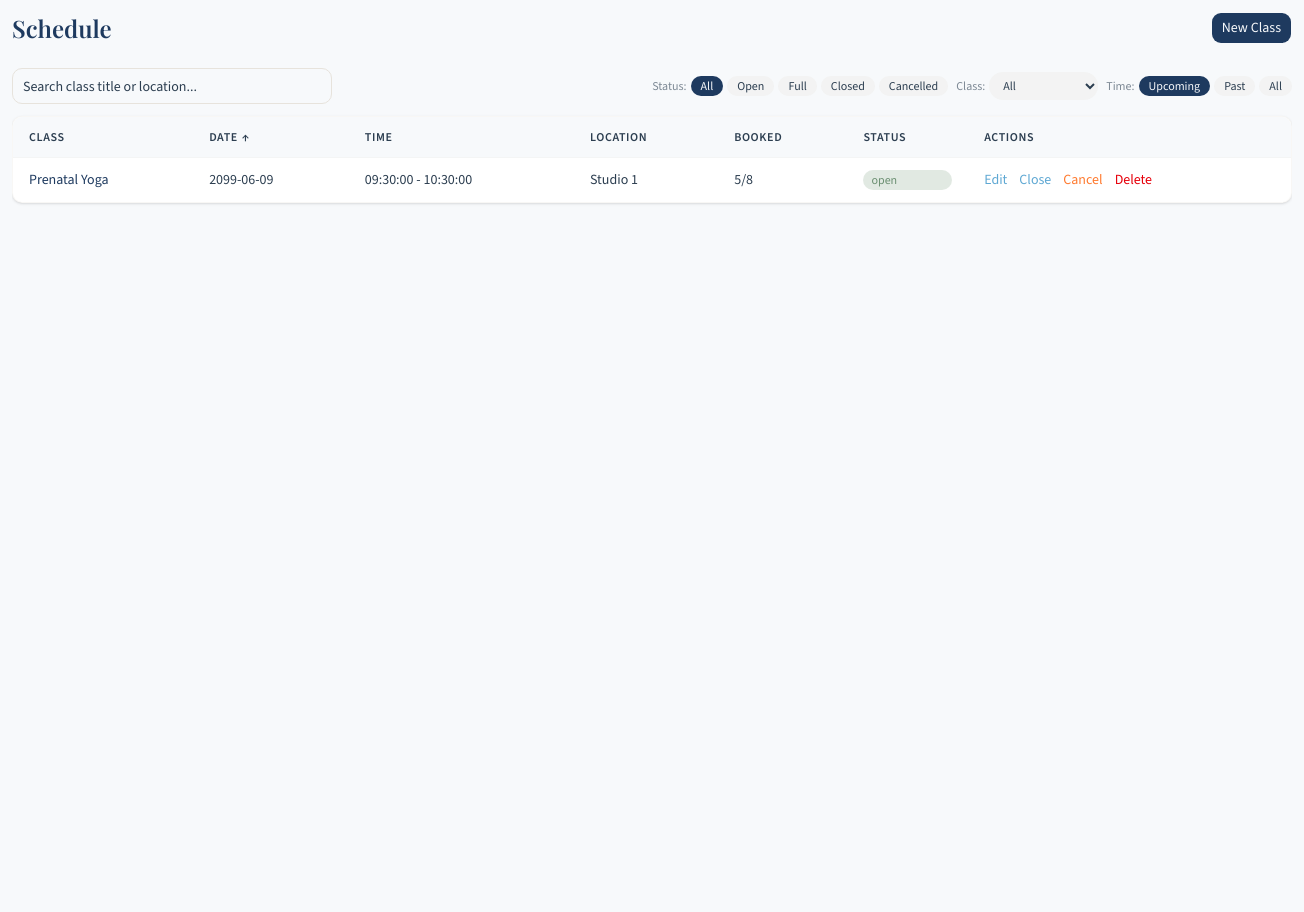
/admin/schedule › says why the form would not save, and re-enables the button
Expected: the cell "Prenatal Yoga" is shown, left=13, top=158, right=193, bottom=202
Click the button "New Class": (1251, 28) left=1211, top=12, right=1292, bottom=44
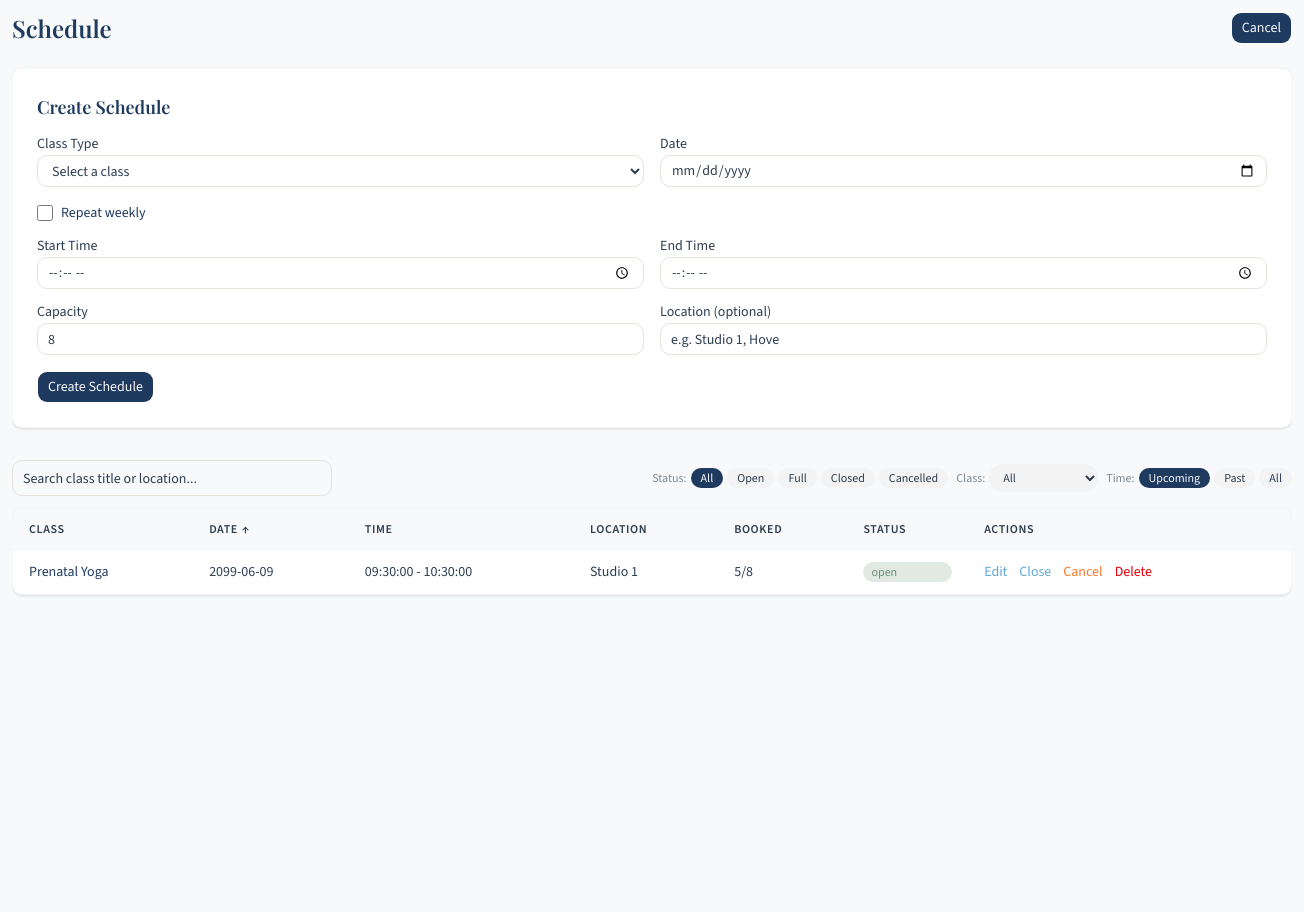
Select "Prenatal Yoga" in the dropdown labelled "Class Type": (340, 171) left=37, top=155, right=644, bottom=187
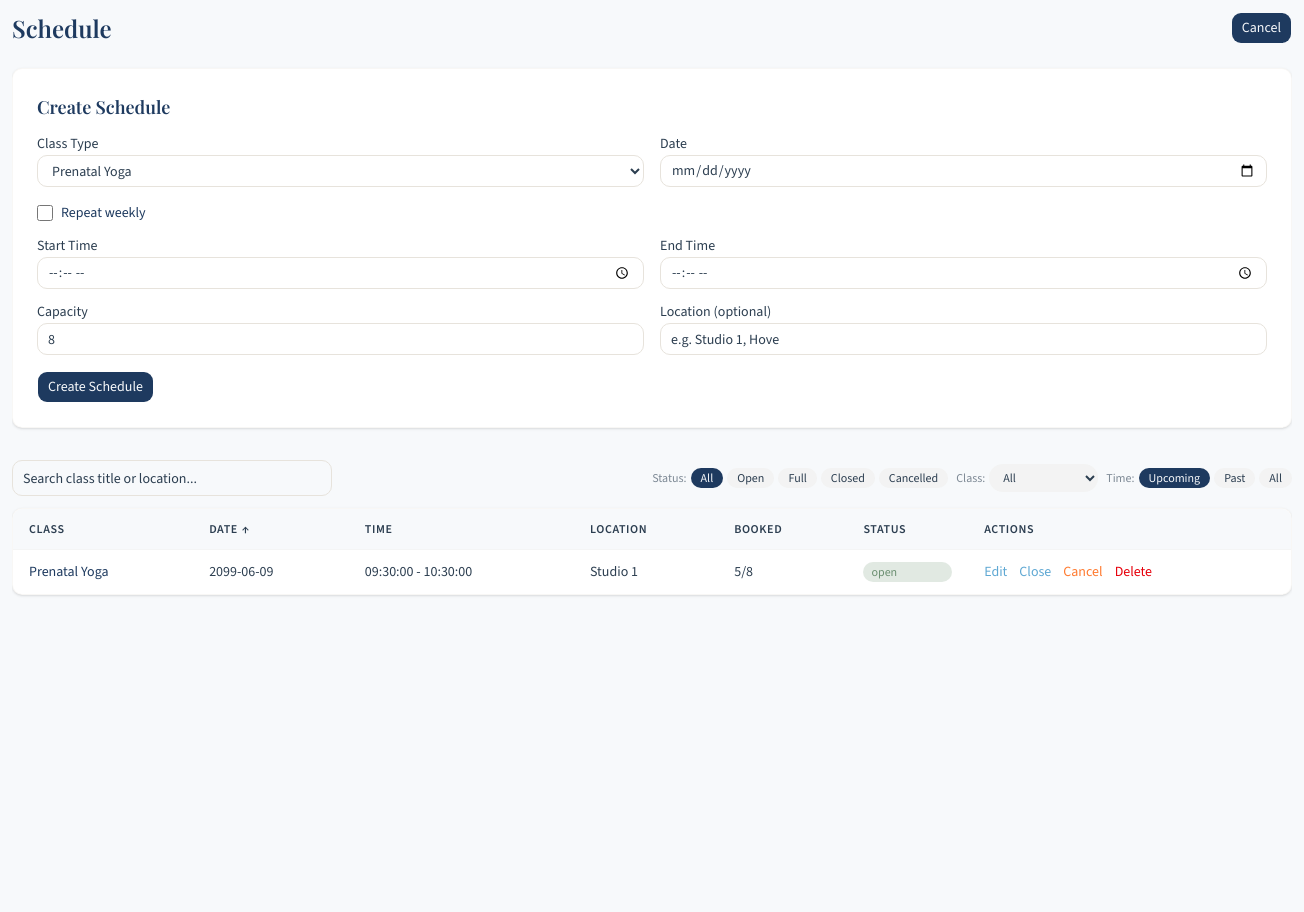
In the date field labelled "Date": (964, 171) left=660, top=155, right=1267, bottom=187, type "2099-07-01"
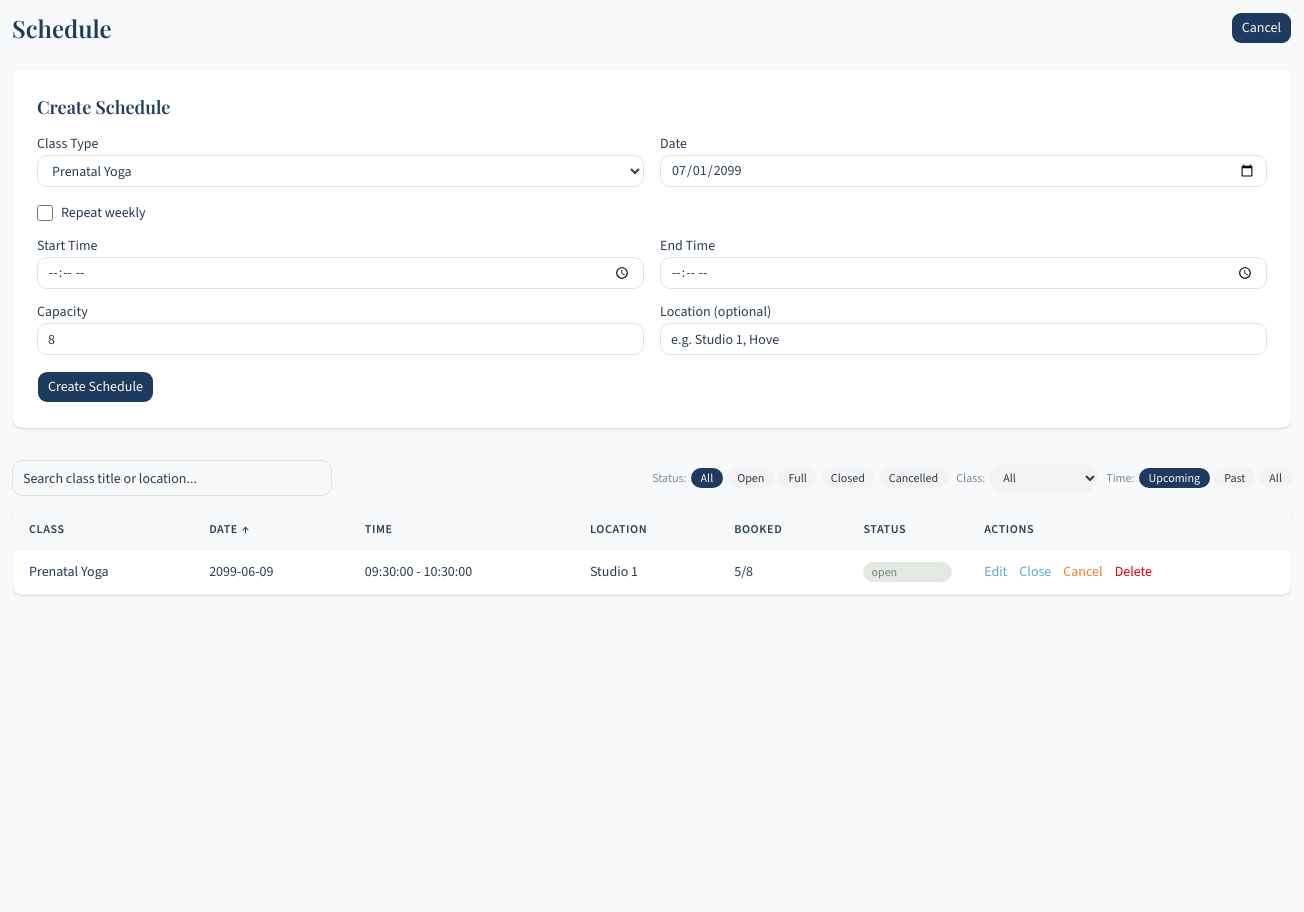
In the time field labelled "Start Time": (340, 273) left=37, top=257, right=644, bottom=289, type "09:30"
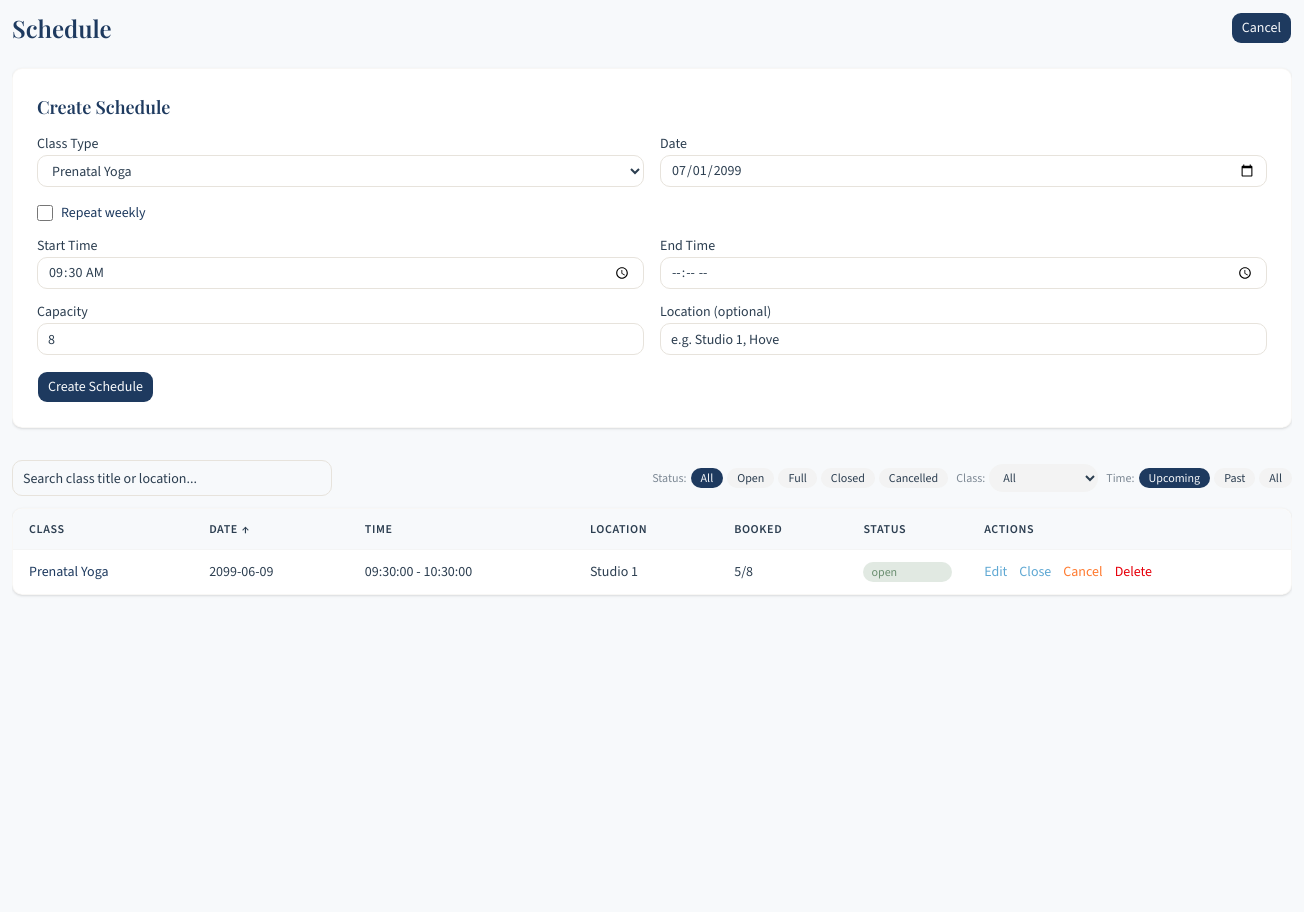
In the time field labelled "End Time": (964, 273) left=660, top=257, right=1267, bottom=289, type "10:30"
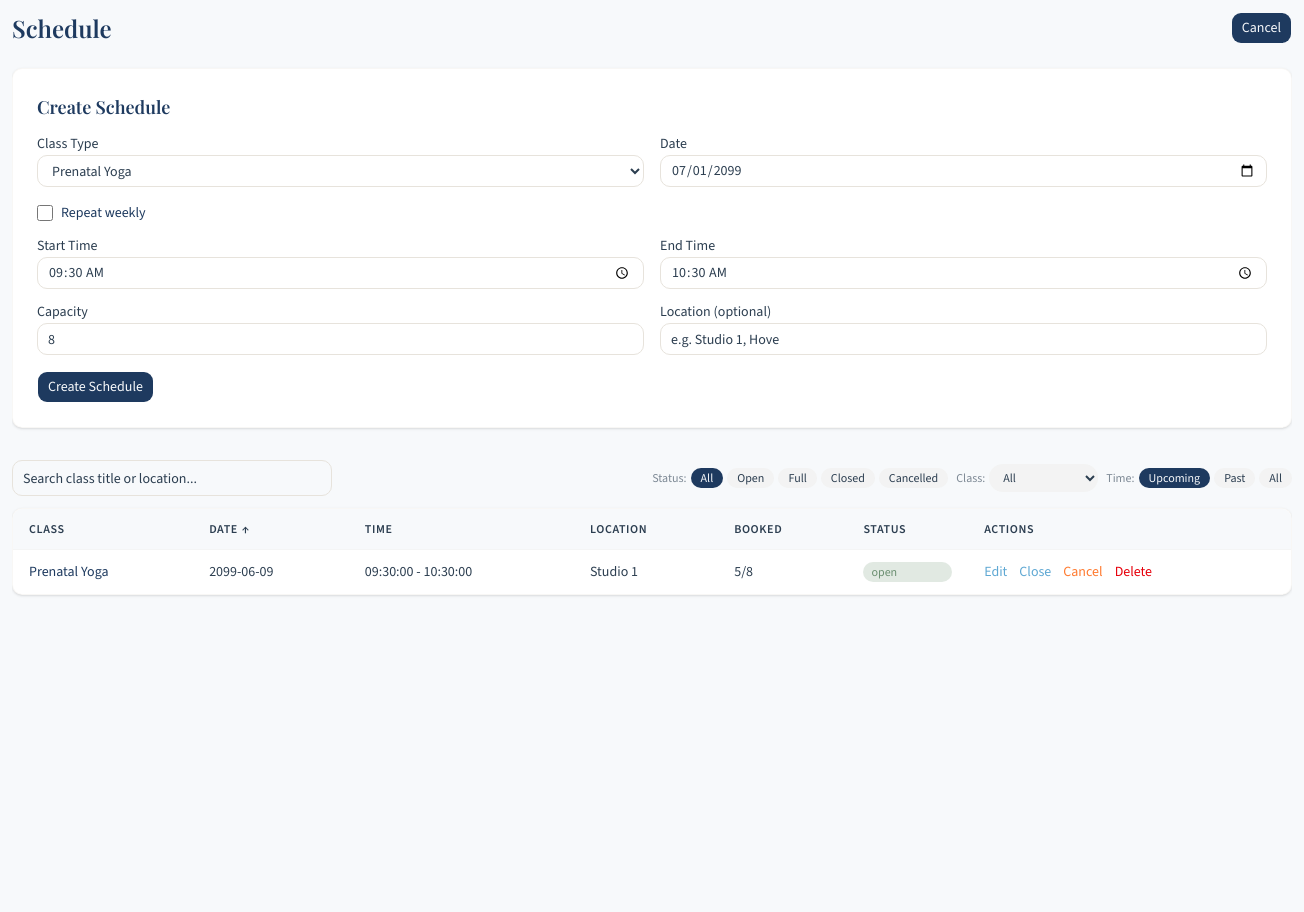
Click the button "Create Schedule": (95, 387) left=37, top=371, right=154, bottom=403
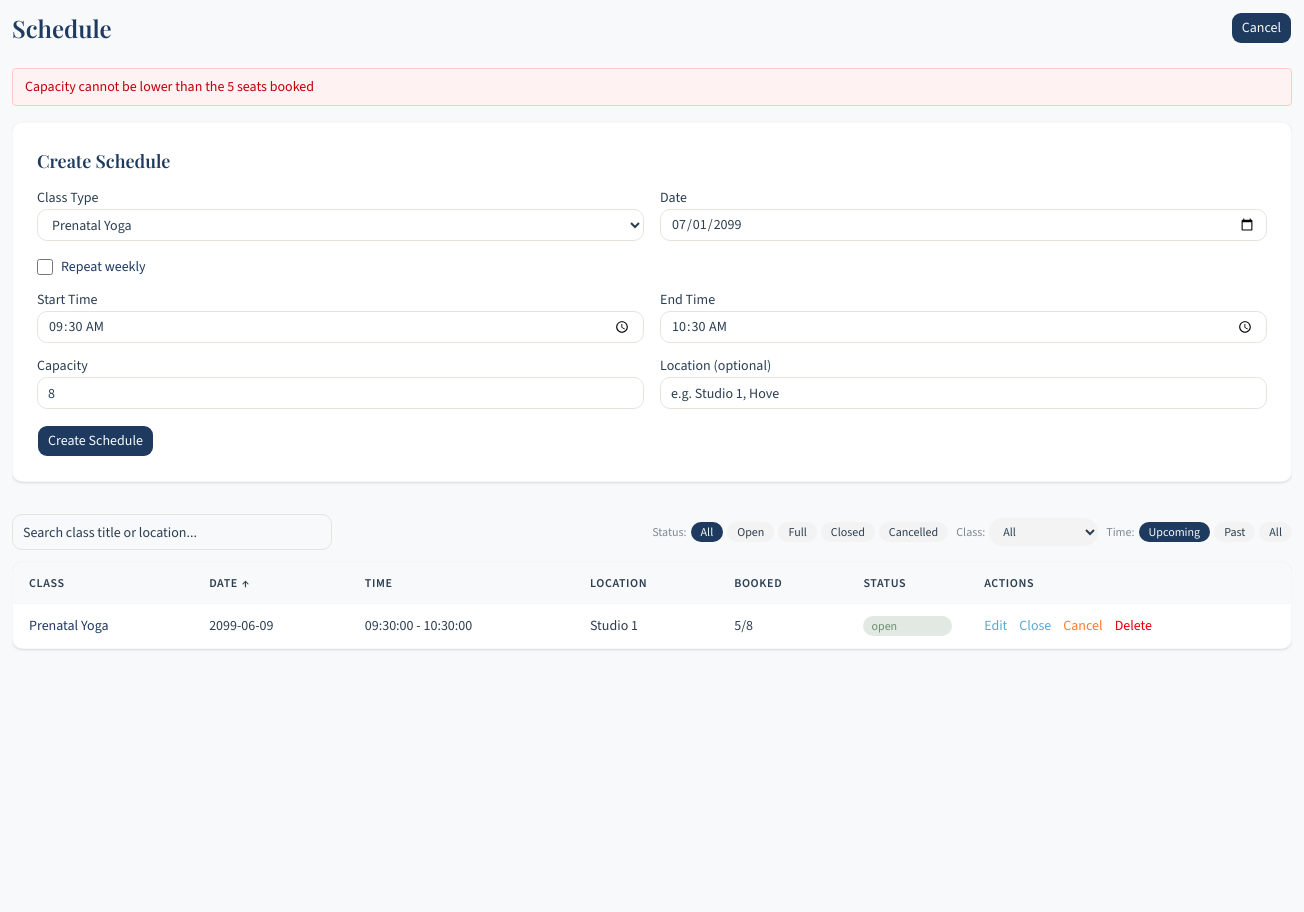
Now the button "Create Schedule" is enabled, box left=37, top=425, right=154, bottom=457
Now the message reads "Capacity cannot be lower than the 5 seats booked", box left=25, top=77, right=314, bottom=96
